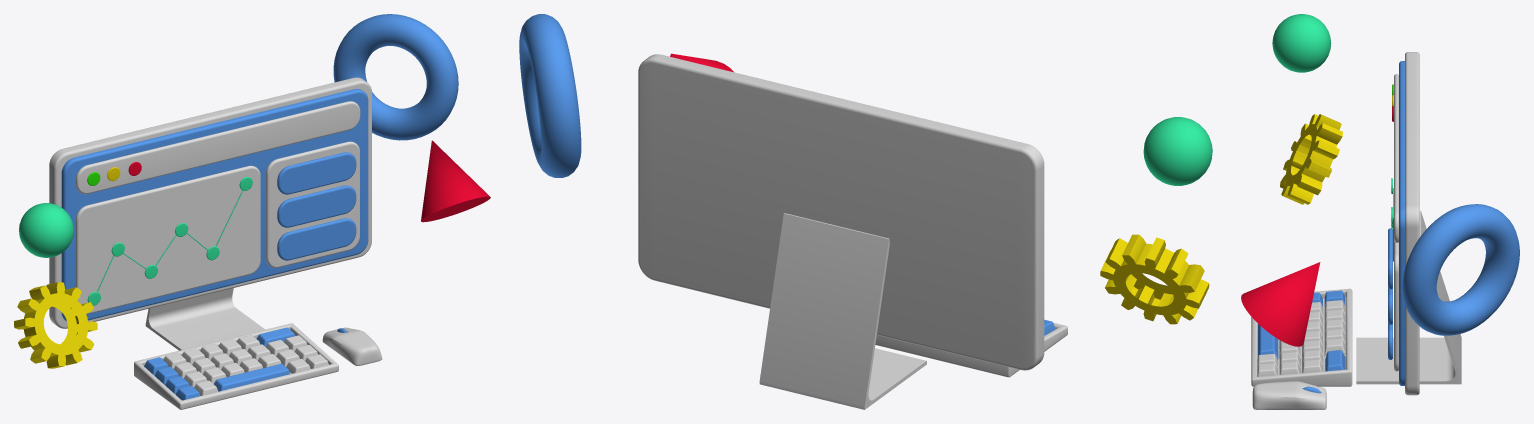
The picture shows the model from 3 angles, left to right: view 1: azimuth 30°, elevation 25°; view 2: azimuth 150°, elevation 25°; view 3: azimuth 270°, elevation 25°; orthographic projection. The views are drawn at different scales.
Parts seen in each view (by area): view 1: Plane.014, Plane.013, Torus, Plane.012, Plane.011, Gear, Cube, Plane.015, Plane, Cone, Sphere, Plane.016 (+12 smaller); view 2: Plane.011, Cube, Torus, Gear, Sphere, Plane; view 3: Torus, Cube, Plane.011, Cone, Gear, Sphere, Plane, Plane.020, Plane.013, Plane.012, Plane.009, Plane.007 (+10 smaller).
Part boxes in pixels (box(x1,y1,x2,y2)): Plane.014: box(75, 165, 260, 314); Plane.013: box(61, 89, 368, 321); Torus: box(333, 14, 458, 140); Plane.012: box(75, 101, 360, 194); Plane.011: box(49, 77, 371, 328); Gear: box(14, 282, 97, 368); Cube: box(145, 288, 264, 350); Plane.015: box(266, 141, 359, 267); Plane: box(134, 323, 338, 409); Cone: box(421, 140, 490, 222); Sphere: box(19, 203, 73, 257); Plane.016: box(277, 152, 356, 194); Plane.011: box(638, 54, 1044, 370); Cube: box(759, 213, 926, 409); Torus: box(519, 14, 581, 177); Gear: box(1100, 234, 1209, 324); Sphere: box(1143, 117, 1212, 185); Plane: box(875, 322, 1067, 377); Torus: box(1402, 204, 1519, 335); Cube: box(1356, 210, 1461, 384); Plane.011: box(1405, 52, 1419, 395); Cone: box(1241, 262, 1320, 346); Gear: box(1280, 114, 1342, 204); Sphere: box(1272, 14, 1331, 72); Plane: box(1251, 288, 1352, 386); Plane.020: box(1252, 381, 1326, 409); Plane.013: box(1399, 61, 1404, 385); Plane.012: box(1394, 74, 1398, 242); Plane.009: box(1257, 359, 1322, 376); Plane.007: box(1279, 338, 1345, 358).
Bounding box in the file's own units: 11.72 × 5.67 × 5.41.
